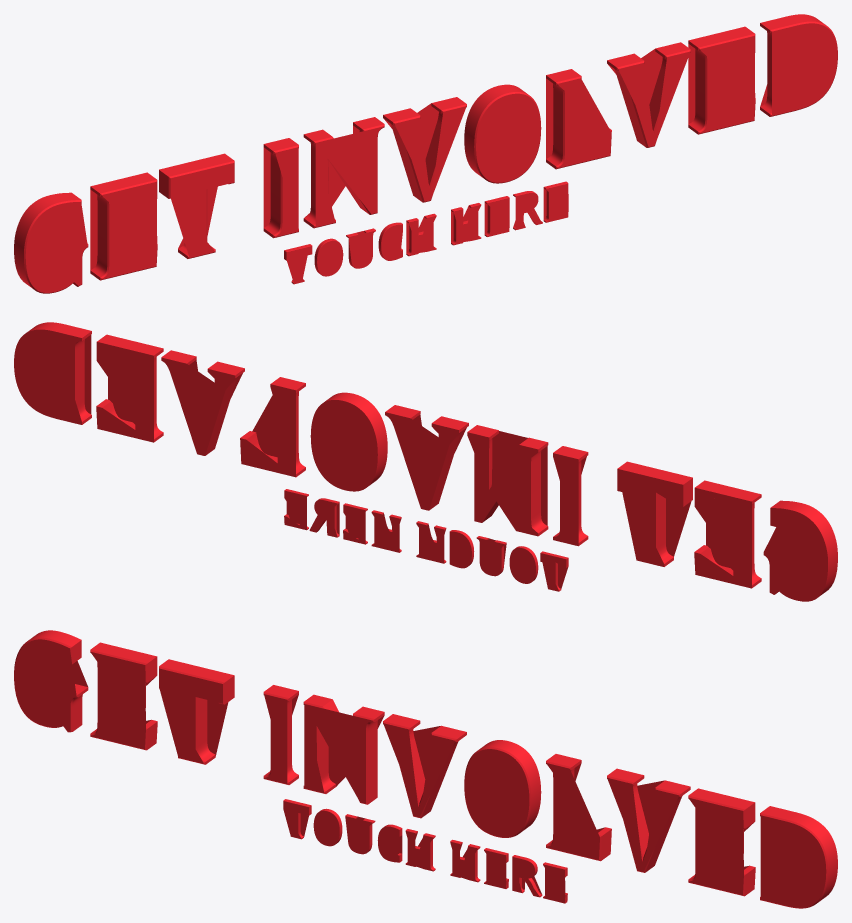
The model's file is get_involed_v2.fbx.
3 views of the same model, one above another, from view 1: azimuth 30°, elevation 25°; view 2: azimuth 150°, elevation 25°; view 3: azimuth 330°, elevation 25° (orthographic).
Visible parts, largest first — view 1: get_involed; view 2: get_involed; view 3: get_involed.
Part boxes in pixels (x1,y1,x2,y2): get_involed: [14, 14, 837, 293]; get_involed: [14, 322, 837, 601]; get_involed: [14, 630, 837, 908].
Size of the model in its own units: 30084 by 5044 by 676.
